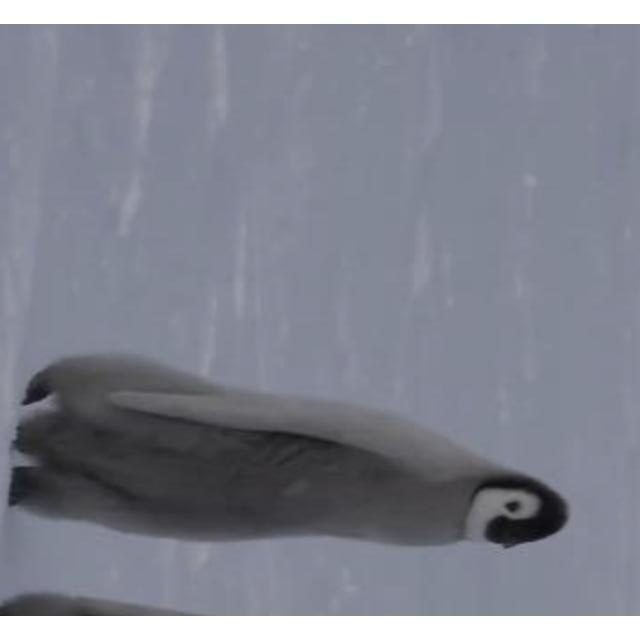penguin: (6, 349, 570, 551)
